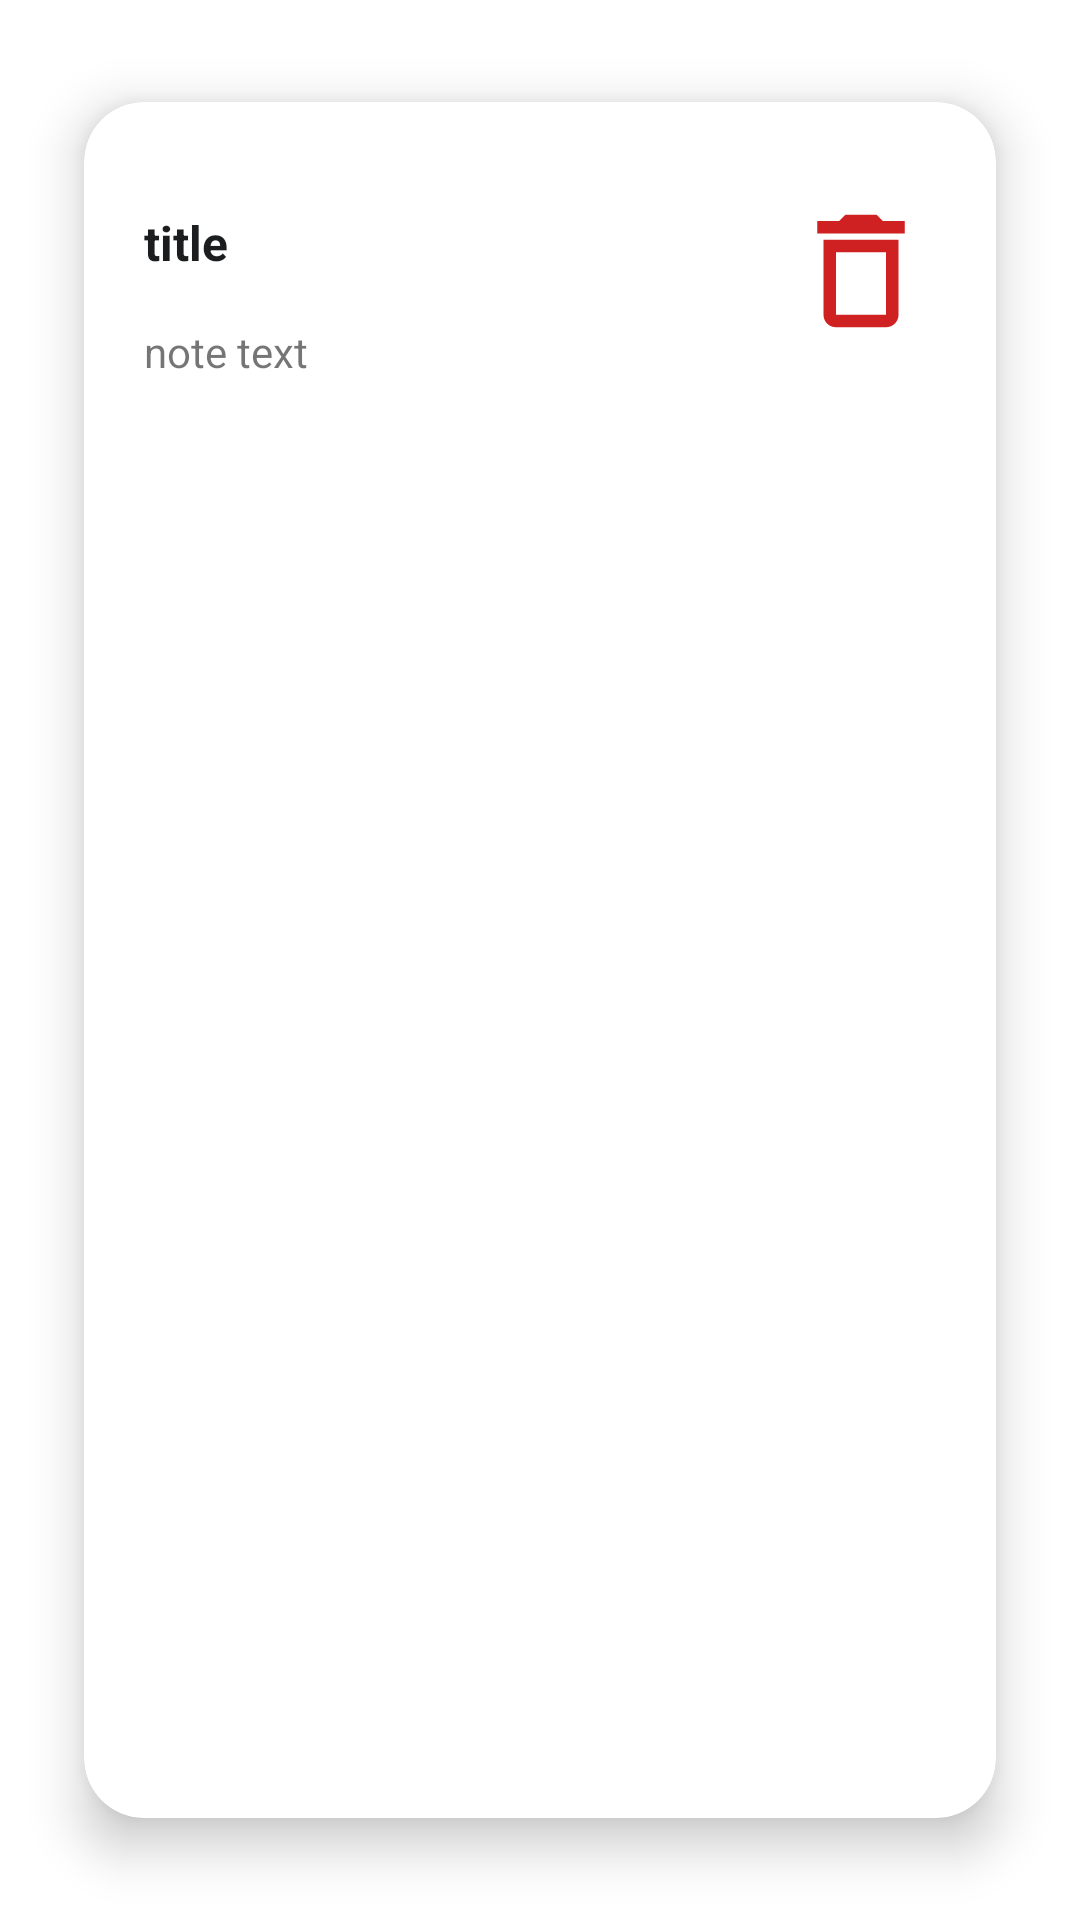

Where to tap for icons on this 1080 x 1920 app screen, as point (x, y):
delete: point (861, 271)
